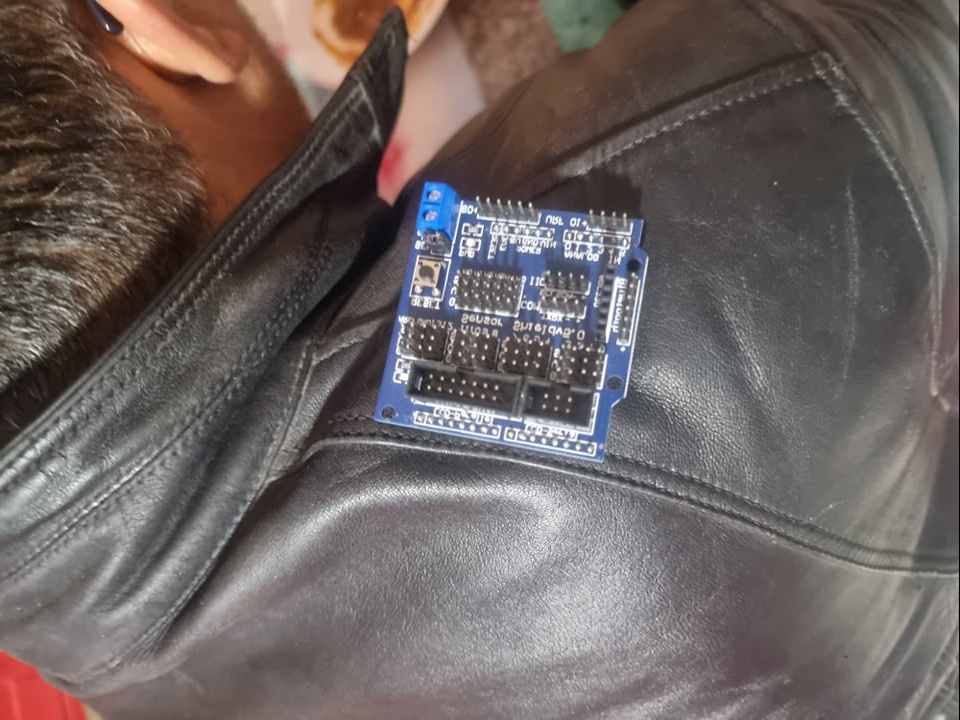5V EXPANSION: (370, 179, 650, 466)
